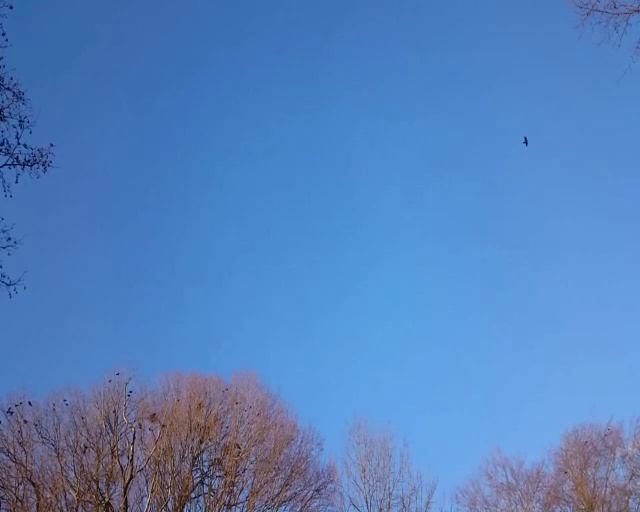BIRD: (523, 135, 529, 146)
